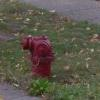Hydrant: (16, 23, 59, 86)
